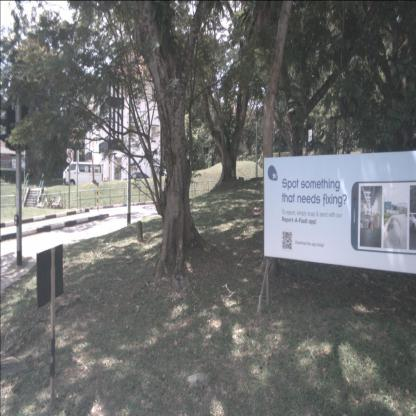vehicle-bicycle: (49, 191, 65, 210), (35, 192, 51, 210)
vehicle-car: (63, 162, 104, 188), (122, 172, 154, 189)
